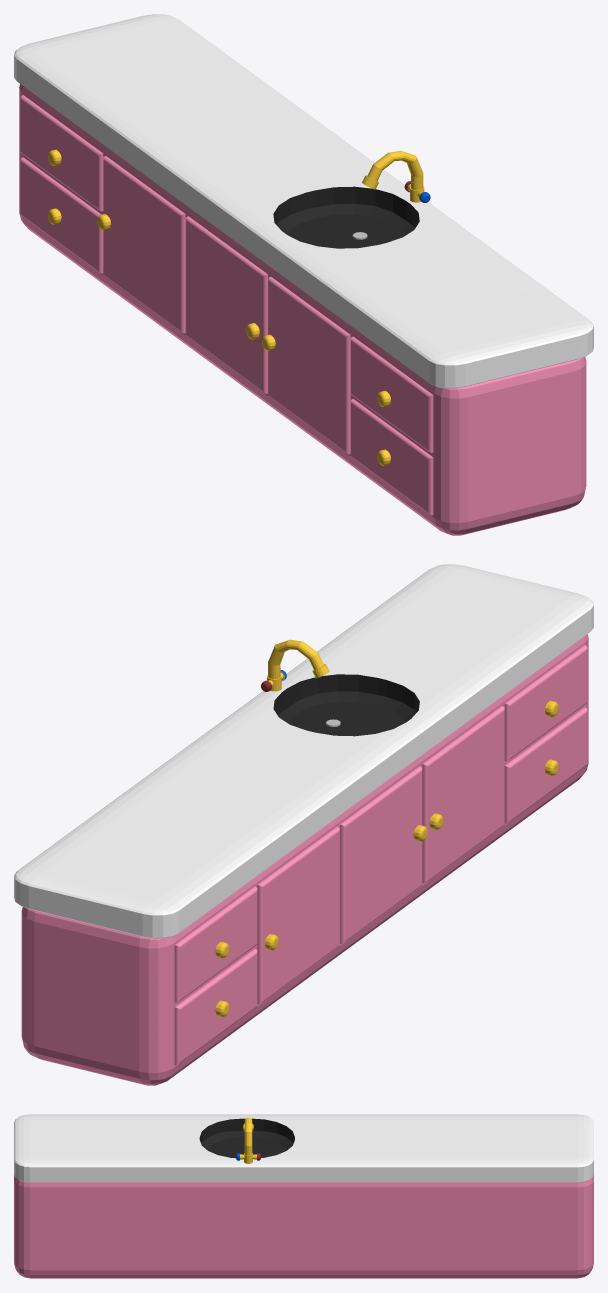
The model's file is Kitchen_3.fbx.
The picture shows the model from 3 angles, top to bottom: view 1: azimuth 30°, elevation 25°; view 2: azimuth 150°, elevation 25°; view 3: azimuth 270°, elevation 25°; orthographic projection. The views are drawn at different scales.
Visible parts, largest first — view 1: Kitchen_3, Kitchen_3 Door_2, Kitchen_3 Door_3, Kitchen_3 Door_1, Kitchen_3 Door_5, Kitchen_3 Door_6, Kitchen_3 Door_7, Kitchen_3 Door_4, Kitchen_3 Sink; view 2: Kitchen_3, Kitchen_3 Door_1, Kitchen_3 Door_3, Kitchen_3 Door_2, Kitchen_3 Door_4, Kitchen_3 Door_7, Kitchen_3 Door_5, Kitchen_3 Door_6, Kitchen_3 Sink; view 3: Kitchen_3, Kitchen_3 Sink.
Part boxes in pixels (box(x1,y1,x2,y2)): Kitchen_3: box(14, 14, 593, 535); Kitchen_3 Door_2: box(262, 277, 350, 454); Kitchen_3 Door_3: box(97, 156, 185, 333); Kitchen_3 Door_1: box(185, 216, 267, 393); Kitchen_3 Door_5: box(350, 336, 433, 452); Kitchen_3 Door_6: box(350, 399, 433, 515); Kitchen_3 Door_7: box(20, 95, 103, 211); Kitchen_3 Door_4: box(20, 157, 103, 273); Kitchen_3 Sink: box(362, 150, 430, 202); Kitchen_3: box(14, 564, 593, 1085); Kitchen_3 Door_1: box(340, 766, 427, 943); Kitchen_3 Door_3: box(257, 827, 339, 1004); Kitchen_3 Door_2: box(422, 706, 504, 883); Kitchen_3 Door_4: box(174, 949, 257, 1065); Kitchen_3 Door_7: box(174, 886, 257, 1002); Kitchen_3 Door_5: box(504, 645, 587, 761); Kitchen_3 Door_6: box(504, 707, 587, 823); Kitchen_3 Sink: box(261, 639, 329, 691); Kitchen_3: box(14, 1114, 593, 1278); Kitchen_3 Sink: box(236, 1117, 260, 1163).
Size of the model in its own units: 0.8075 by 1.08 by 3.61.
